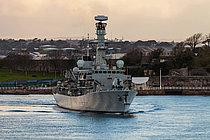MIL_Ship: (50, 54, 138, 115)
